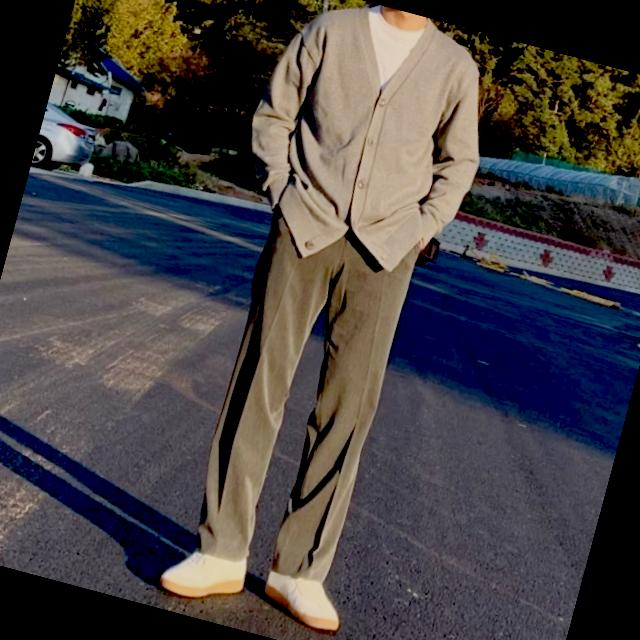cardigan: (219, 0, 510, 293)
slacks: (182, 174, 430, 589)
